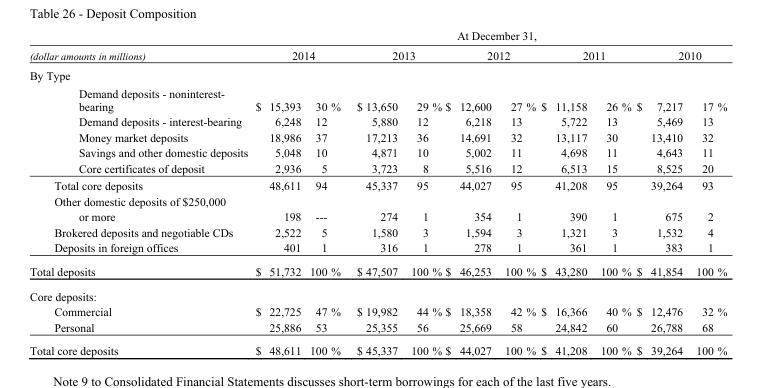table: (28, 28, 726, 356)
table column: (28, 28, 251, 356), (537, 28, 593, 356), (348, 28, 403, 356), (442, 28, 497, 356), (633, 28, 688, 356), (251, 28, 304, 356), (304, 28, 348, 356), (497, 28, 537, 356), (593, 28, 633, 356), (403, 28, 442, 356), (688, 28, 726, 356)
table column header: (28, 28, 726, 64)
table projected row header: (28, 283, 726, 303), (28, 64, 726, 83)
table row: (28, 193, 726, 224), (28, 83, 726, 113), (28, 259, 726, 283), (28, 44, 726, 64), (28, 239, 726, 259), (28, 283, 726, 303), (28, 64, 726, 83), (28, 319, 726, 338), (28, 338, 726, 356), (28, 176, 726, 193), (28, 28, 726, 44), (28, 113, 726, 129), (28, 144, 726, 160), (28, 160, 726, 176), (28, 303, 726, 319), (28, 129, 726, 144), (28, 224, 726, 239)
table spanning cell: (28, 28, 251, 64), (251, 28, 726, 44), (251, 44, 348, 64), (537, 44, 633, 64), (442, 44, 537, 64), (348, 44, 442, 64), (633, 44, 726, 64)
